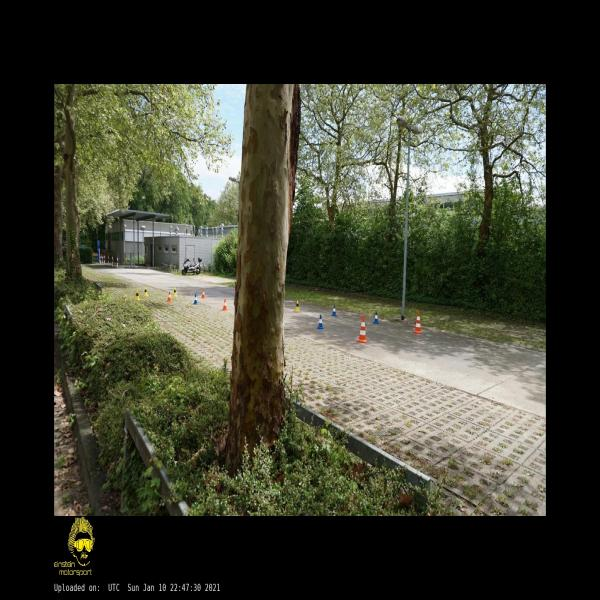blue_cone: (317, 314, 324, 329), (373, 311, 380, 324), (331, 305, 337, 316), (193, 294, 198, 304)
large_orange_cone: (358, 316, 367, 343), (414, 310, 422, 334)
orange_cone: (222, 299, 228, 311), (167, 291, 172, 301), (201, 289, 206, 298)
yellow_cone: (134, 290, 140, 300), (295, 300, 300, 311), (144, 287, 148, 296), (173, 287, 177, 296)
